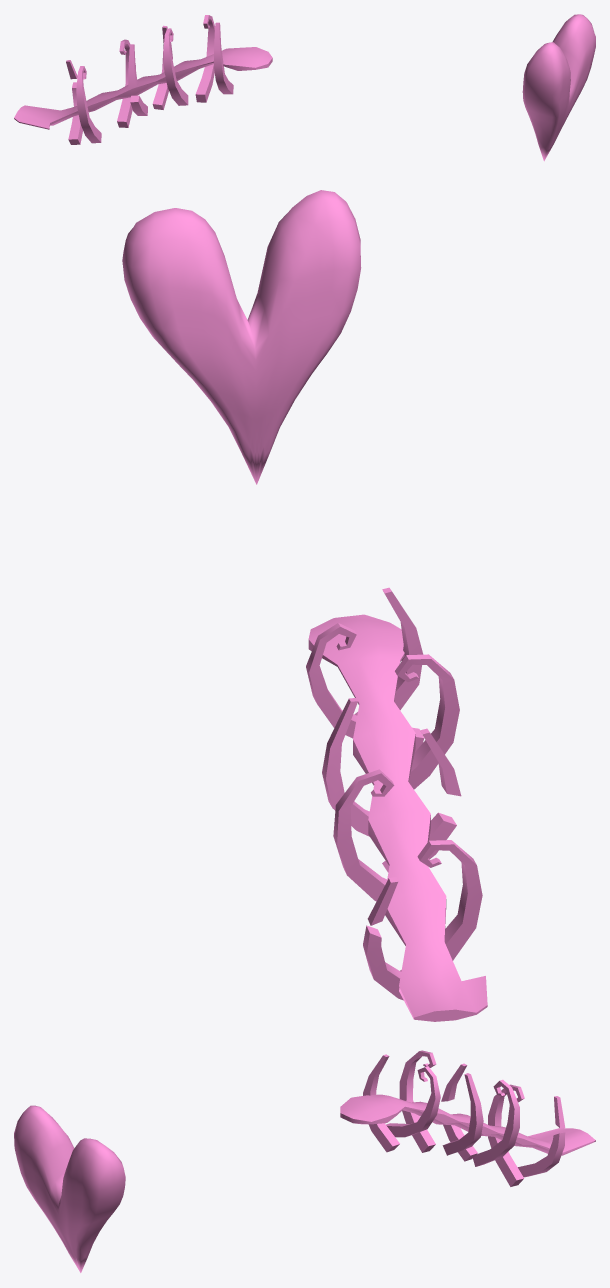
The model's file is AntagonistPersecution_Stairs.FBX.
The picture shows the model from 3 angles, top to bottom: view 1: azimuth 30°, elevation 25°; view 2: azimuth 150°, elevation 25°; view 3: azimuth 270°, elevation 25°; orthographic projection. The views are drawn at different scales.
Visible parts, largest first — view 1: RoomFinal_AntagonistPersecution_Stairs; view 2: RoomFinal_AntagonistPersecution_Stairs; view 3: RoomFinal_AntagonistPersecution_Stairs.
Part boxes in pixels (x1=…): RoomFinal_AntagonistPersecution_Stairs: x1=14, y1=14, x2=595, y2=161; RoomFinal_AntagonistPersecution_Stairs: x1=122, y1=190, x2=487, y2=1021; RoomFinal_AntagonistPersecution_Stairs: x1=14, y1=1050, x2=595, y2=1272.
Size of the model in its own units: 7634 by 8690 by 3680.
